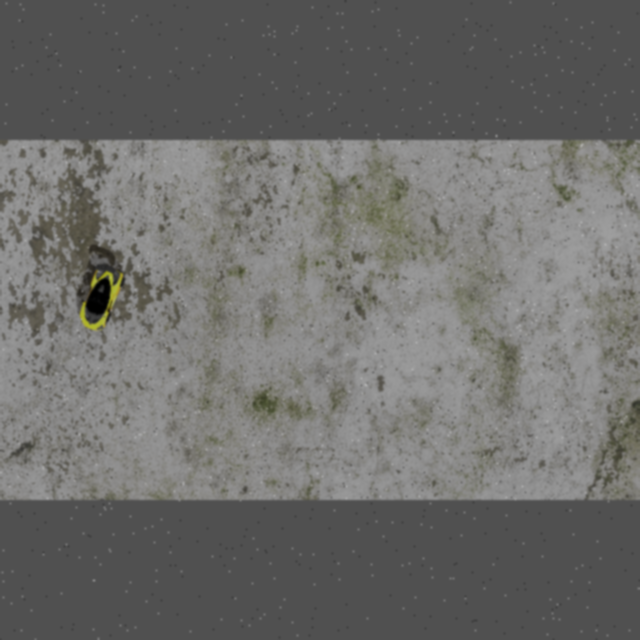car: (70, 261, 128, 335)
